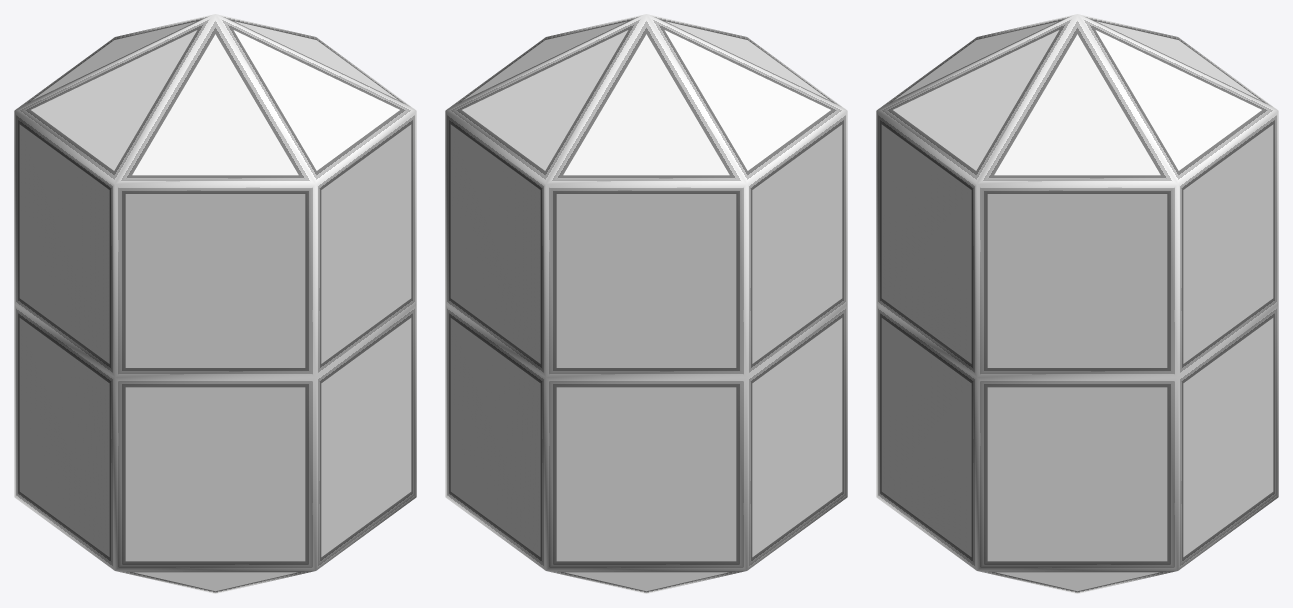
Rendered from Double Item Crystal.fbx.
3 views of the same model, side by side, from view 1: azimuth 30°, elevation 25°; view 2: azimuth 150°, elevation 25°; view 3: azimuth 270°, elevation 25° (orthographic).
Parts seen in each view (by area): view 1: Cylinder; view 2: Cylinder; view 3: Cylinder.
Boxes of the visible parts, left/top/right/bottom form: Cylinder: left=14, top=14, right=416, bottom=593; Cylinder: left=445, top=14, right=847, bottom=593; Cylinder: left=876, top=14, right=1278, bottom=593.
Bounding box in the file's own units: 163 × 300 × 189.
